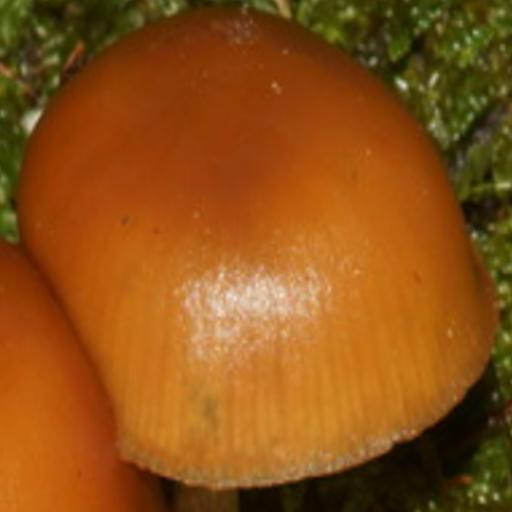mushroom: (29, 4, 494, 485)
